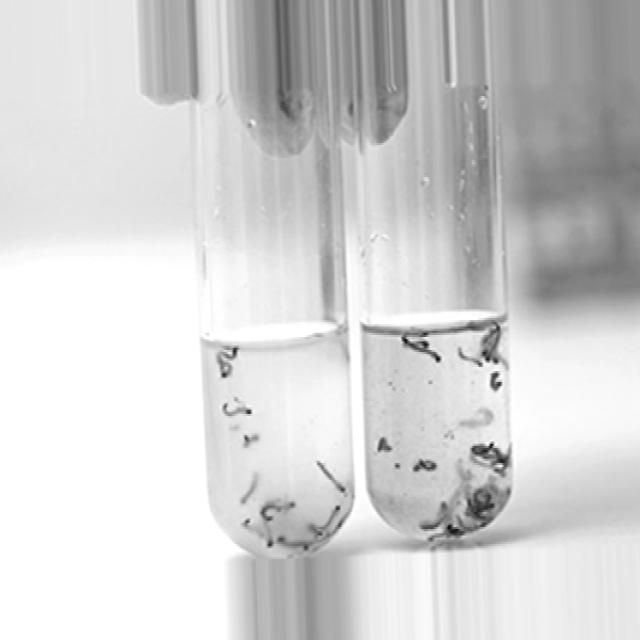larvas: (315, 455, 347, 498), (404, 338, 441, 364), (462, 408, 493, 430), (240, 475, 256, 507), (421, 512, 443, 532), (223, 403, 250, 418), (325, 503, 341, 528), (242, 516, 259, 538), (458, 350, 481, 366), (261, 501, 275, 524), (218, 349, 239, 363), (471, 442, 493, 455), (415, 461, 435, 475), (279, 537, 308, 546), (476, 487, 491, 504), (496, 445, 511, 460), (491, 458, 507, 472), (266, 524, 274, 549), (443, 498, 452, 520), (467, 495, 476, 517), (448, 523, 462, 537), (310, 523, 322, 539), (428, 531, 446, 541), (244, 435, 260, 446), (476, 502, 494, 511), (279, 500, 295, 510), (490, 372, 500, 388), (220, 364, 232, 376), (378, 440, 390, 452), (415, 338, 428, 347)
